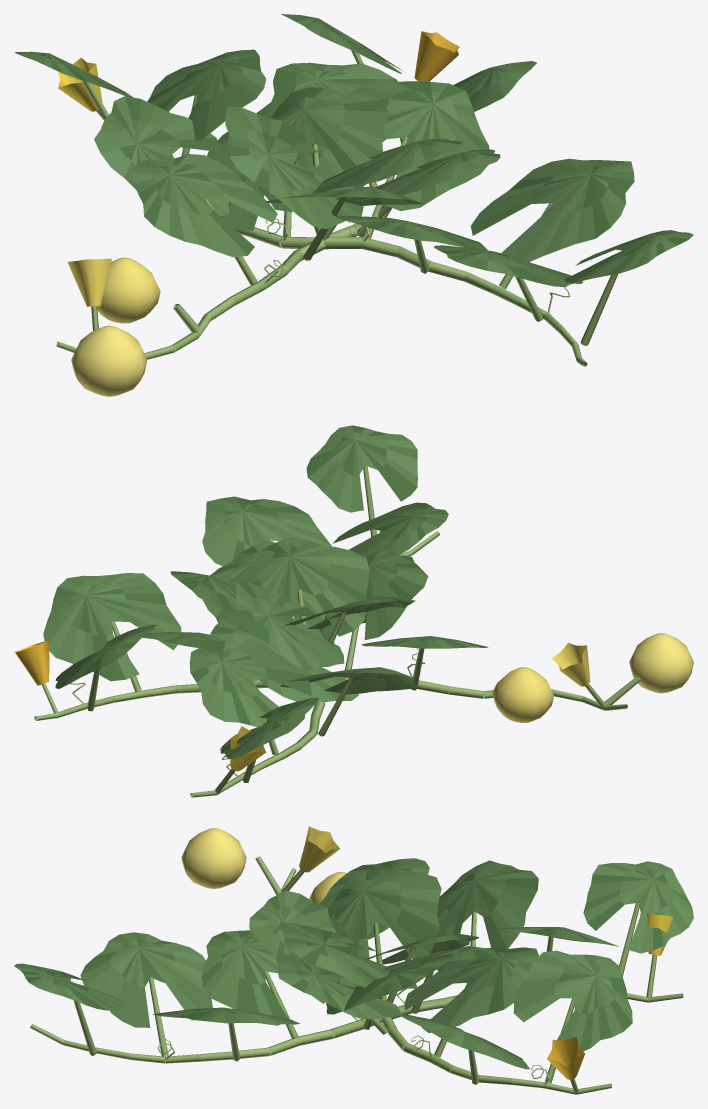
File: melon_jaune_mur.glb
3 views of the same model, one above another, from view 1: azimuth 30°, elevation 25°; view 2: azimuth 150°, elevation 25°; view 3: azimuth 270°, elevation 25° (orthographic). The views are drawn at different scales.
Visible parts, largest first — view 1: Melon_Feuilles, Melon_Tiges, Melon_Fruits, Melon_Fleurs; view 2: Melon_Feuilles, Melon_Tiges, Melon_Fruits, Melon_Fleurs; view 3: Melon_Feuilles, Melon_Tiges, Melon_Fruits, Melon_Fleurs.
Part boxes in pixels (x1,y1,x2,y2): Melon_Feuilles: (15, 14, 693, 286); Melon_Tiges: (56, 50, 624, 366); Melon_Fruits: (71, 257, 160, 396); Melon_Fleurs: (58, 31, 459, 306); Melon_Feuilles: (43, 425, 488, 758); Melon_Tiges: (34, 465, 640, 797); Melon_Fruits: (492, 633, 693, 722); Melon_Fleurs: (14, 640, 590, 771); Melon_Feuilles: (14, 858, 693, 1069); Melon_Tiges: (30, 856, 683, 1094); Melon_Fruits: (181, 828, 346, 903); Melon_Fleurs: (299, 826, 673, 1079).
Bounding box in the file's own units: 1.44 × 0.3177 × 1.64.
